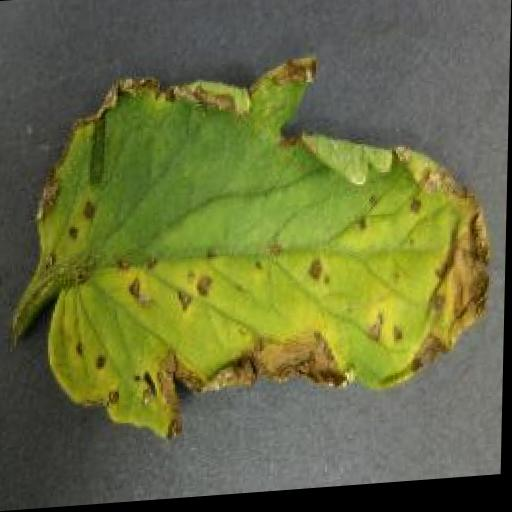Bacterial Spot: (0, 38, 505, 457)
